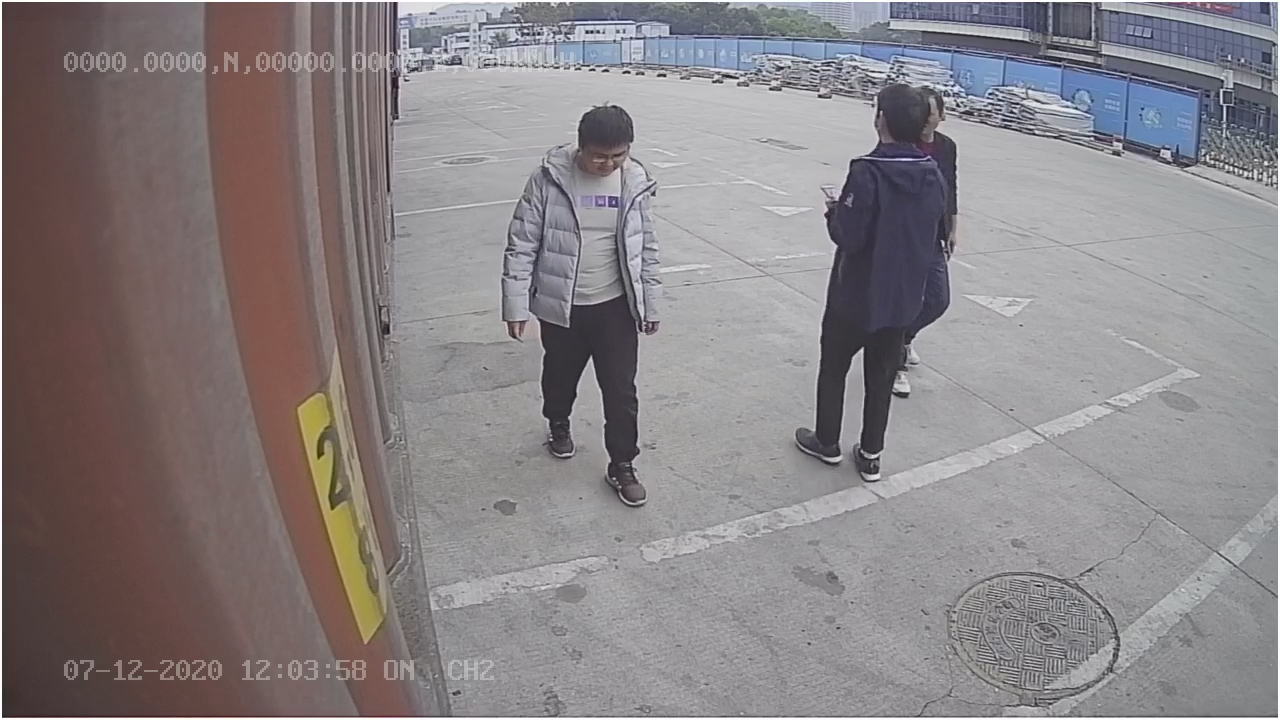person: (497, 95, 669, 506)
